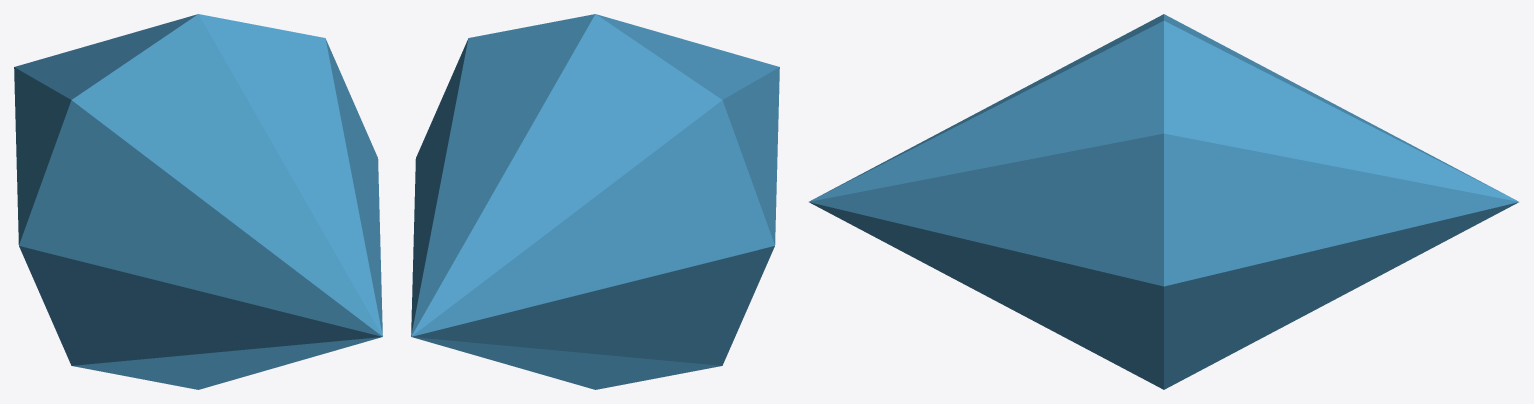
The model's file is water_elemental_stone_blockout.glb.
The picture shows the model from 3 angles, left to right: view 1: azimuth 30°, elevation 25°; view 2: azimuth 150°, elevation 25°; view 3: azimuth 270°, elevation 25°; orthographic projection. The views are drawn at different scales.
Parts seen in each view (by area): view 1: water_elemental_stone_blockout_0; view 2: water_elemental_stone_blockout_0; view 3: water_elemental_stone_blockout_0.
Boxes of the visible parts, x1,y1,x2,y2 form: water_elemental_stone_blockout_0: (14,14,382,389); water_elemental_stone_blockout_0: (411,14,779,389); water_elemental_stone_blockout_0: (809,14,1518,389).
Size of the model in its own units: 0.9 by 0.9 by 1.6.
